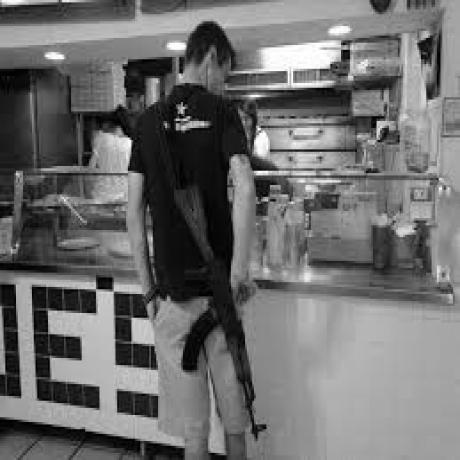Guns: (166, 179, 264, 441)
